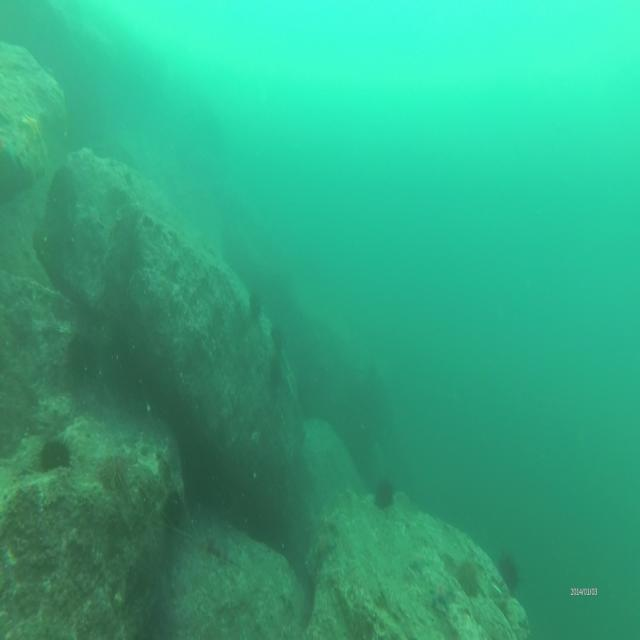echinus: (41, 436, 72, 473), (456, 558, 481, 602), (499, 551, 520, 594), (376, 476, 396, 511), (248, 293, 263, 321), (270, 327, 285, 355)
starfish: (20, 110, 44, 146)
